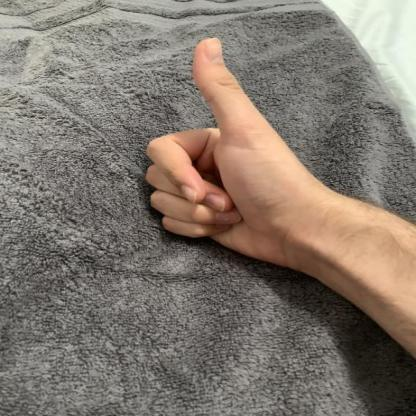Thumbs-Up: (138, 33, 365, 267)
